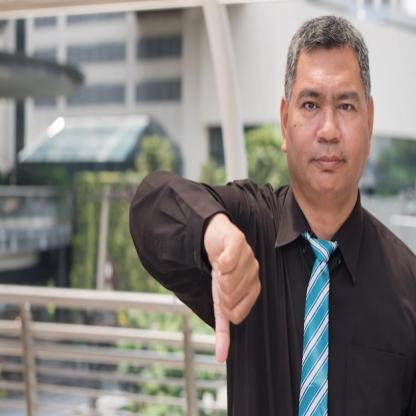thumb_down: (209, 226, 262, 364)
